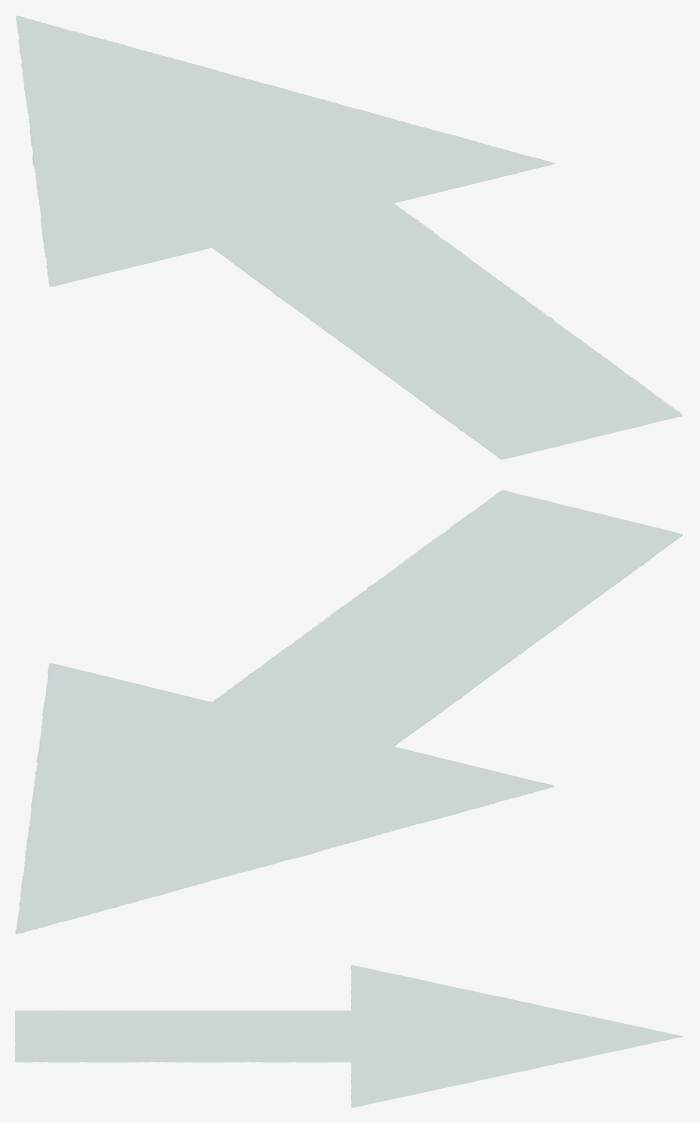
Rendered from SM05_Decals_TrafficSign_01_Arrow_01.fbx.
The picture shows the model from 3 angles, top to bottom: view 1: azimuth 30°, elevation 25°; view 2: azimuth 150°, elevation 25°; view 3: azimuth 270°, elevation 25°; orthographic projection. The views are drawn at different scales.
Parts seen in each view (by area): view 1: SM05_Decals_TrafficSign_01_Arrow_01; view 2: SM05_Decals_TrafficSign_01_Arrow_01; view 3: SM05_Decals_TrafficSign_01_Arrow_01.
Boxes of the visible parts, box(x1,y1,x2,y2) form: SM05_Decals_TrafficSign_01_Arrow_01: box(15, 15, 682, 459); SM05_Decals_TrafficSign_01_Arrow_01: box(15, 490, 682, 933); SM05_Decals_TrafficSign_01_Arrow_01: box(14, 965, 682, 1107).
Size of the model in its own units: 0.7274 by 2.38e-06 by 1.43.
